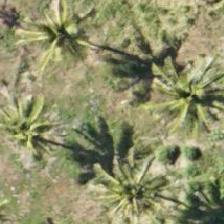coconut_tree: (125, 27, 215, 117), (0, 81, 83, 171), (13, 0, 103, 74), (169, 166, 223, 223)
